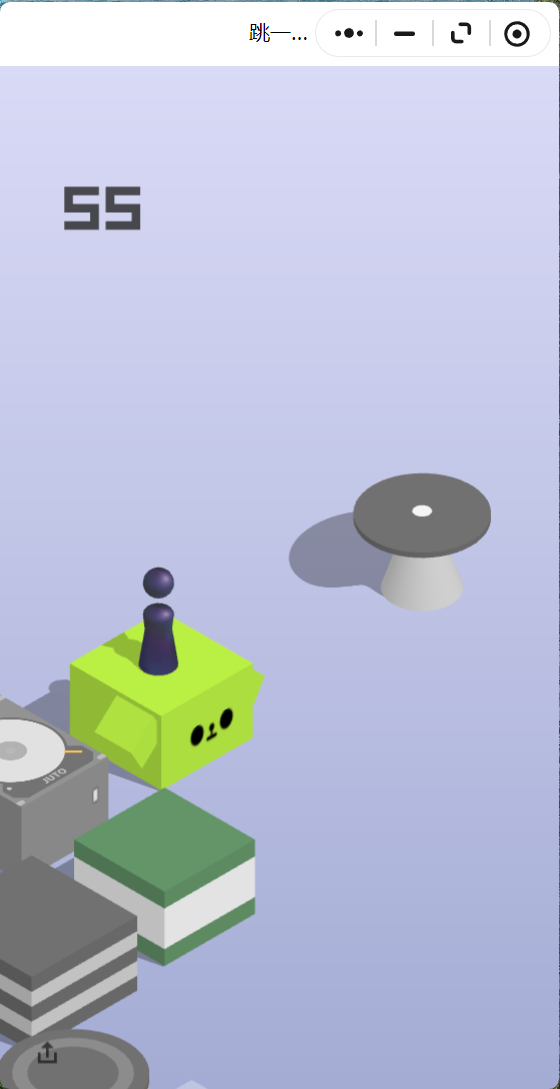piece: (143, 567, 173, 672)
target: (354, 473, 491, 551)
